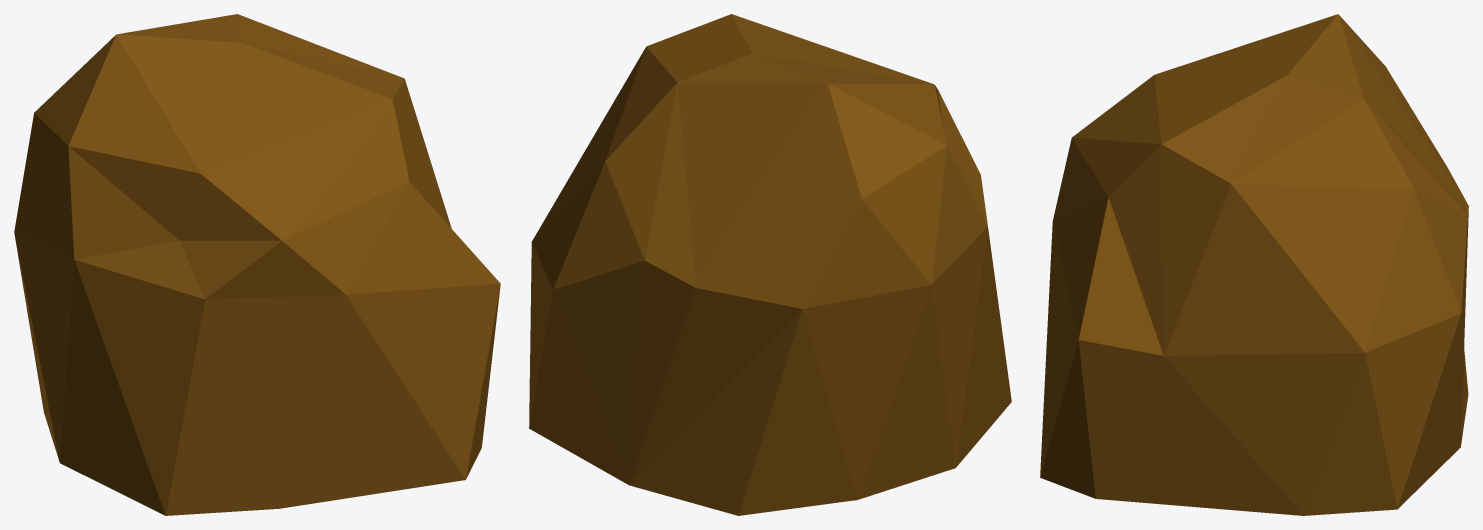
Rendered from Flat Rock 3.fbx.
3 renders of one model, left to right at view 1: azimuth 30°, elevation 25°; view 2: azimuth 150°, elevation 25°; view 3: azimuth 270°, elevation 25°, orthographic. The views are drawn at different scales.
Parts seen in each view (by area): view 1: Flat Rock 3; view 2: Flat Rock 3; view 3: Flat Rock 3.
Boxes of the visible parts, x1,y1,x2,y2 form: Flat Rock 3: (14,14,500,515); Flat Rock 3: (529,14,1011,515); Flat Rock 3: (1040,14,1468,515).
Bounding box in the file's own units: 195 × 187 × 196.
